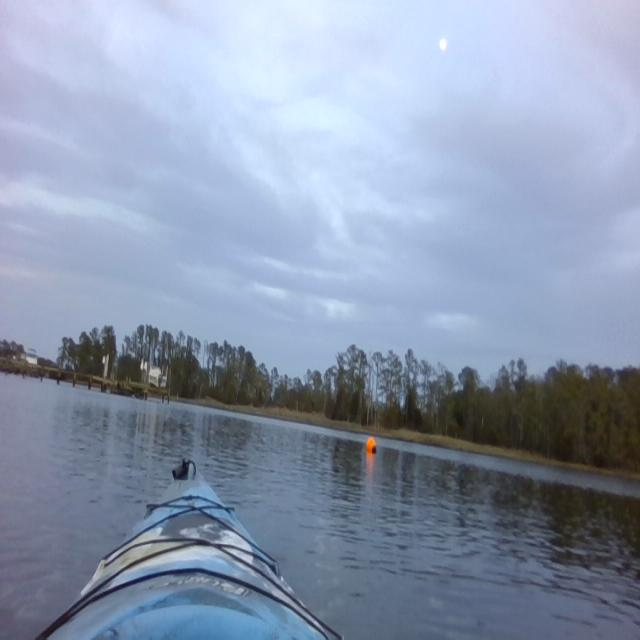Buoy: (364, 432, 378, 462)
